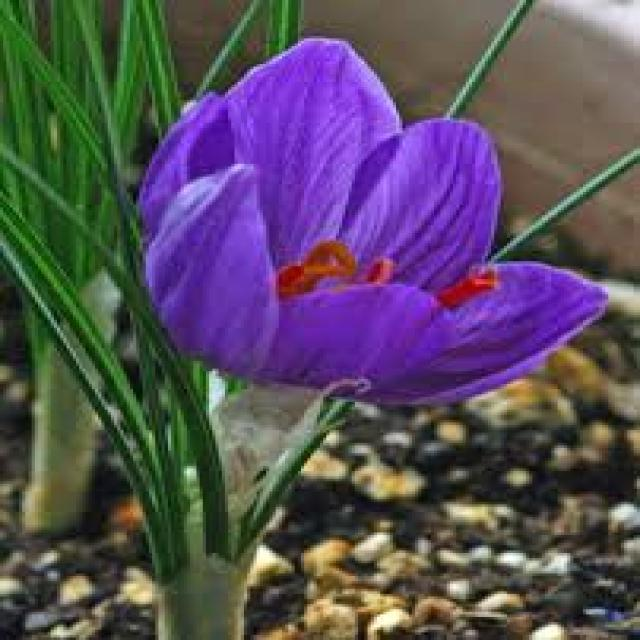Flower: (139, 32, 607, 442)
stigma: (280, 241, 356, 288), (442, 262, 506, 310)
